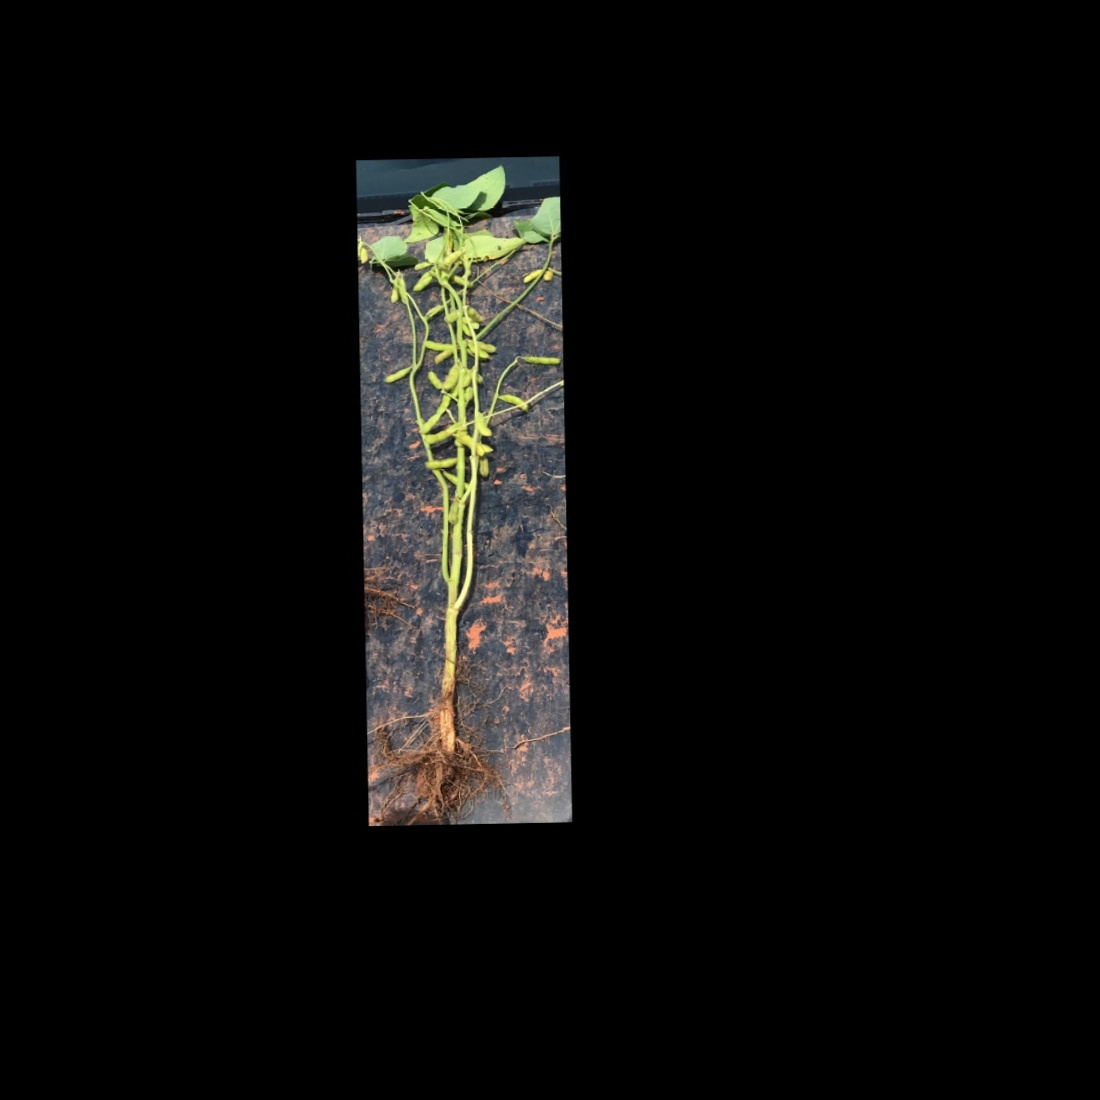pod: (495, 391, 531, 411), (381, 364, 411, 386), (518, 353, 562, 366), (434, 388, 453, 417), (422, 456, 461, 470), (410, 272, 437, 291), (423, 339, 458, 353), (426, 370, 445, 392), (519, 267, 541, 283)
soy: (357, 159, 568, 805)
